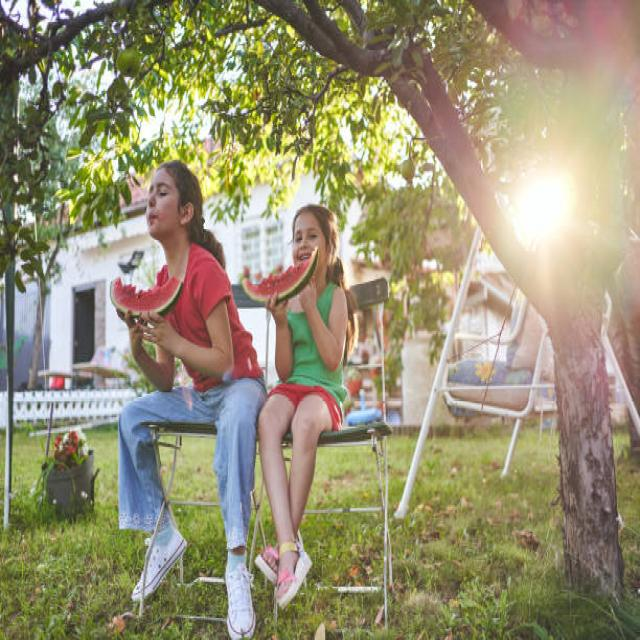Spitting: (114, 157, 202, 287)
